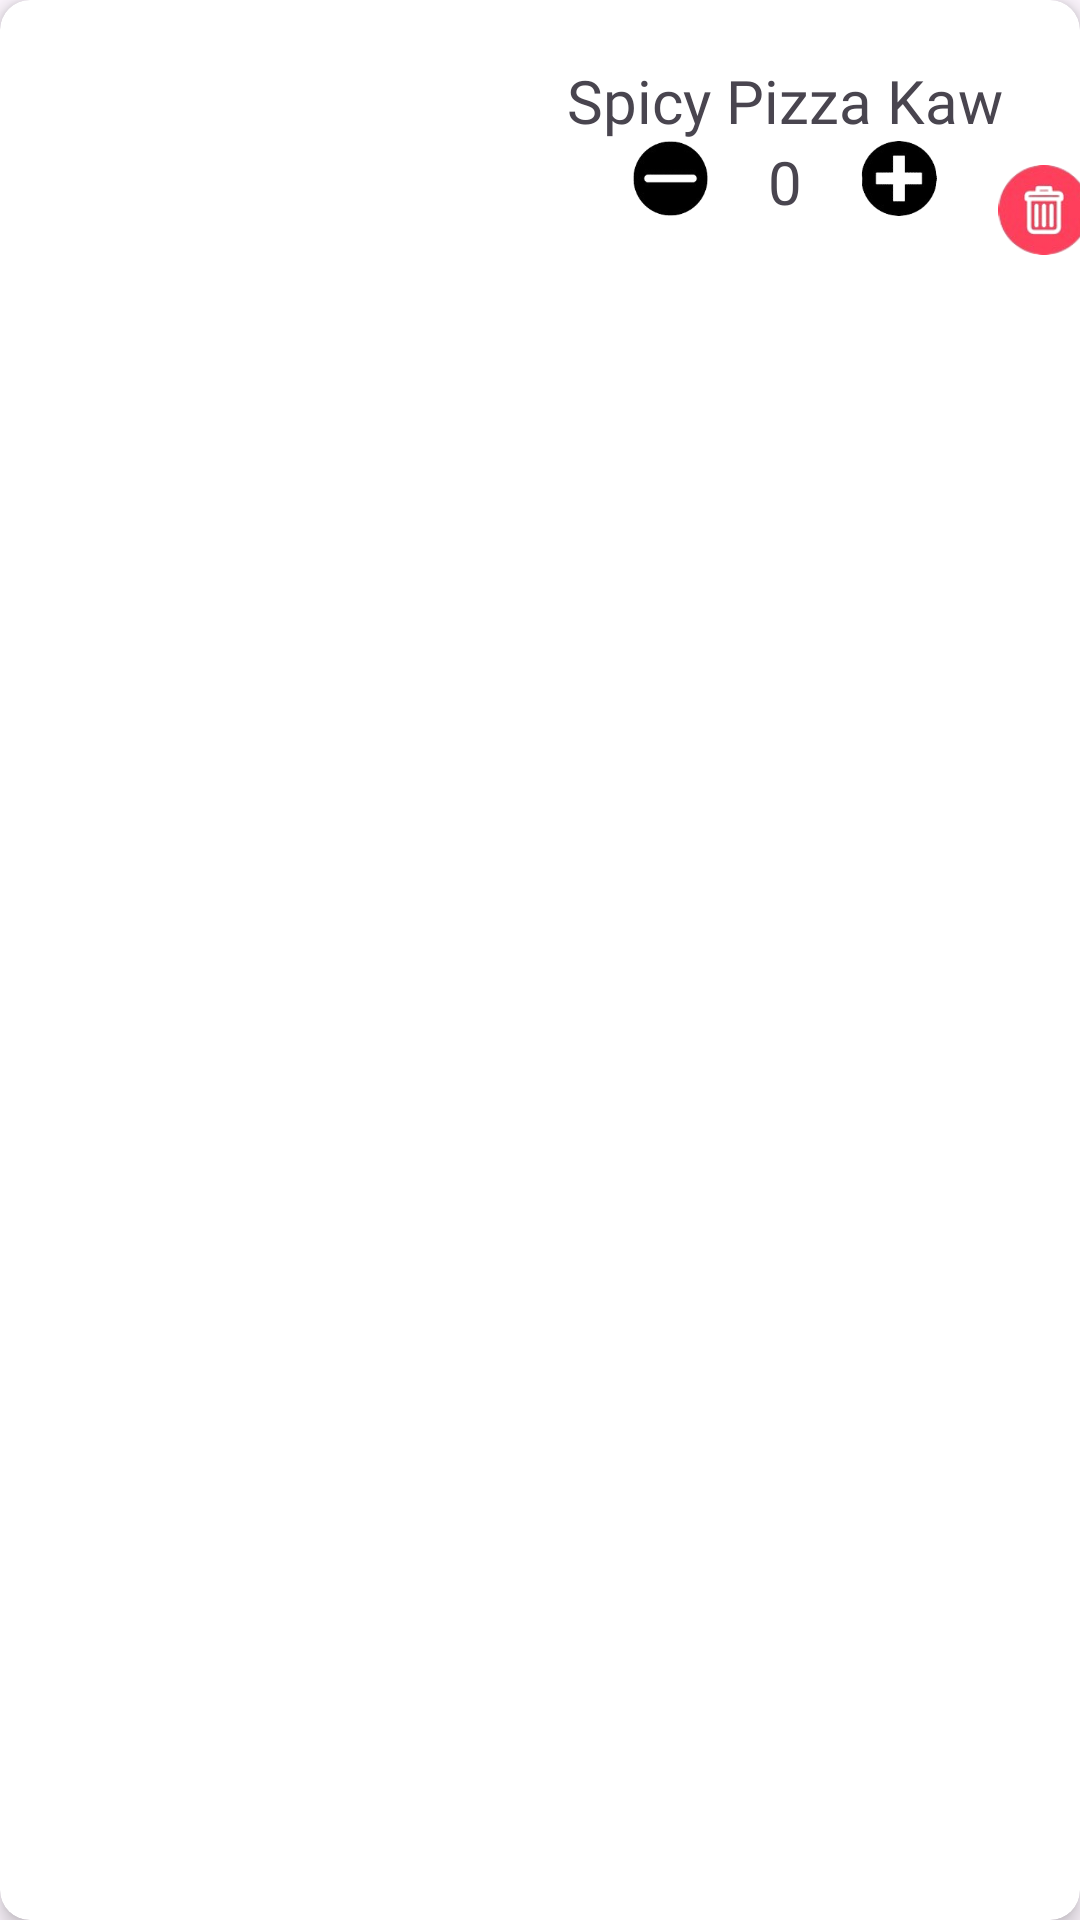

Screen size 1080×1920. Icon name, then its box in pixels as (x1, y1, x2, y2):
minus: (633, 141, 708, 216)
plus: (862, 141, 937, 216)
